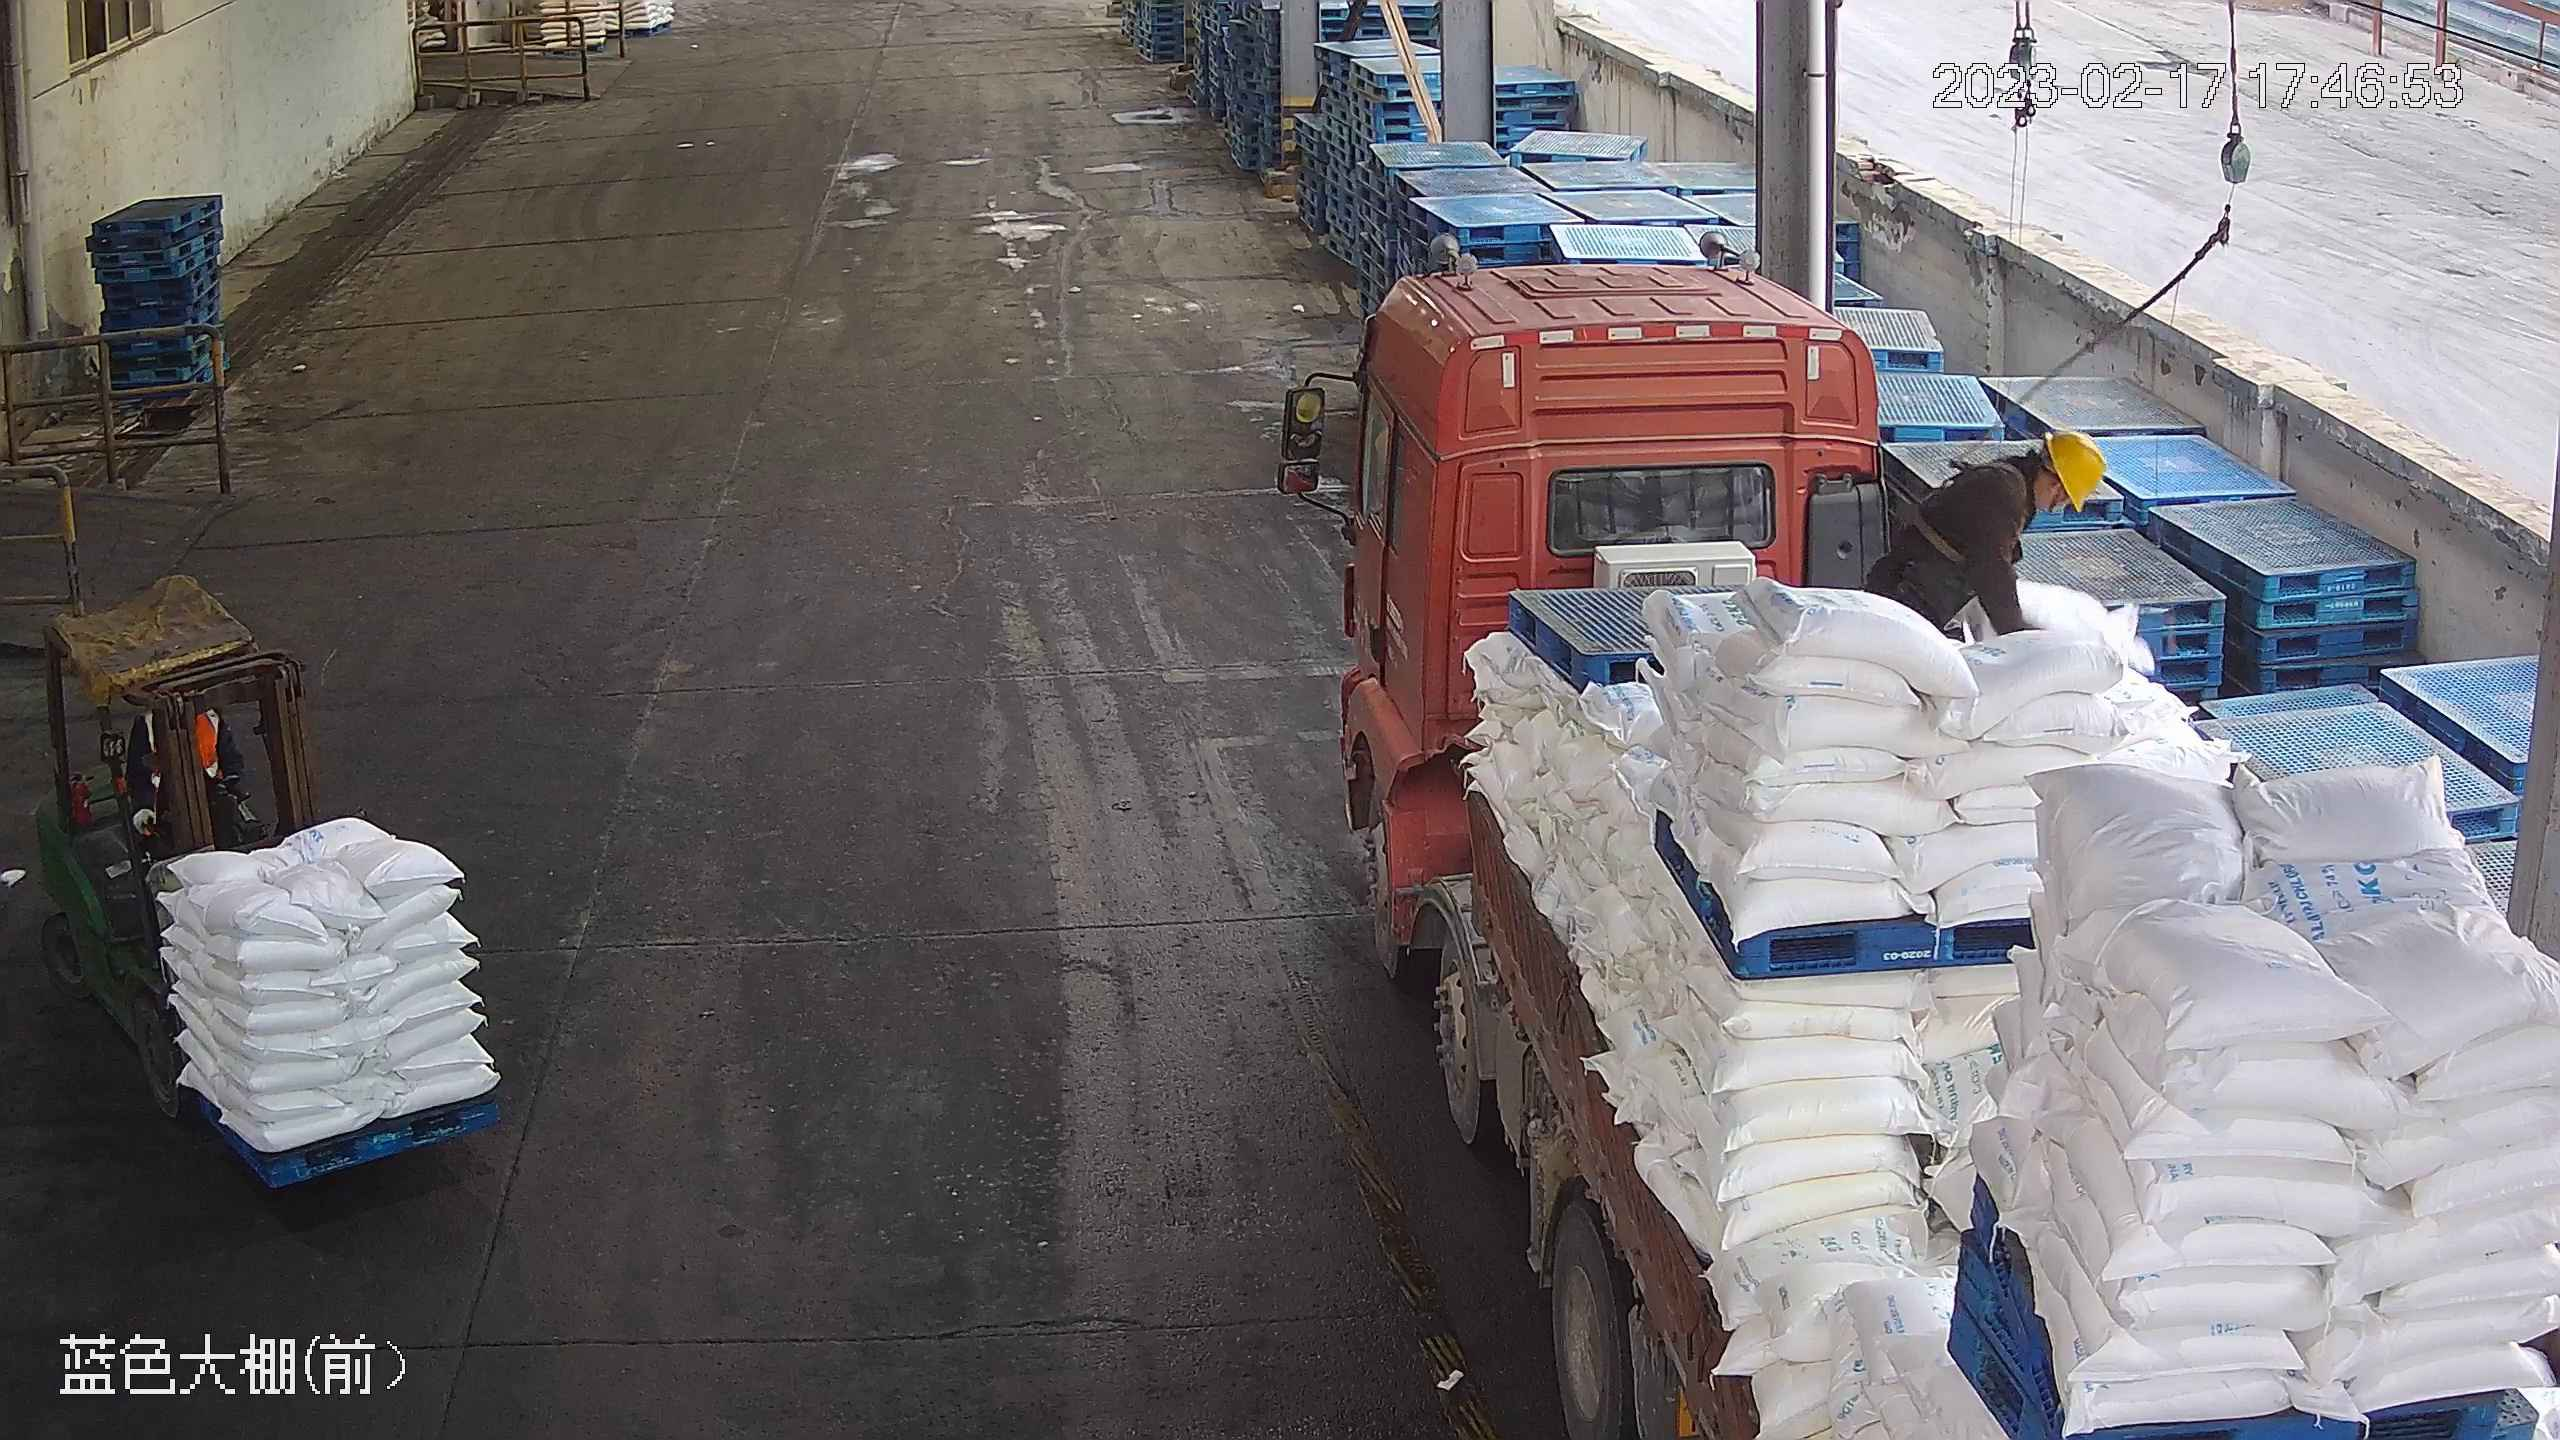belt: (1916, 457, 2034, 564)
head: (1966, 425, 2109, 535)
helmet: (2043, 426, 2110, 510)
truck: (1278, 250, 2560, 1440)
